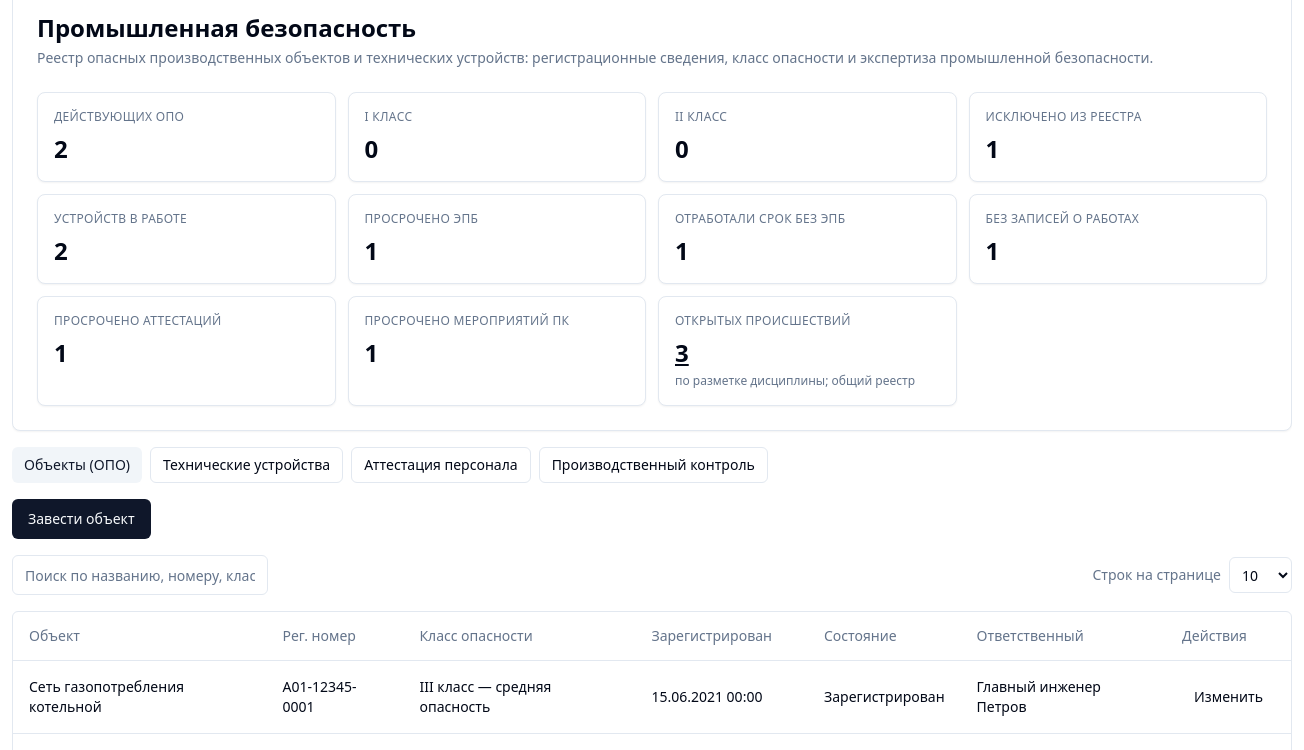
Test: IndustrialSafetyPage › производственный контроль открывается четвёртой секцией
The image size is (1304, 750).
Expected: the text "Сеть газопотребления котельной" is shown, top-left (13, 660), bottom-right (266, 733)
Click the button "Производственный контроль" at (653, 465), box top-left (539, 447), bottom-right (768, 483)
(page scrolled)
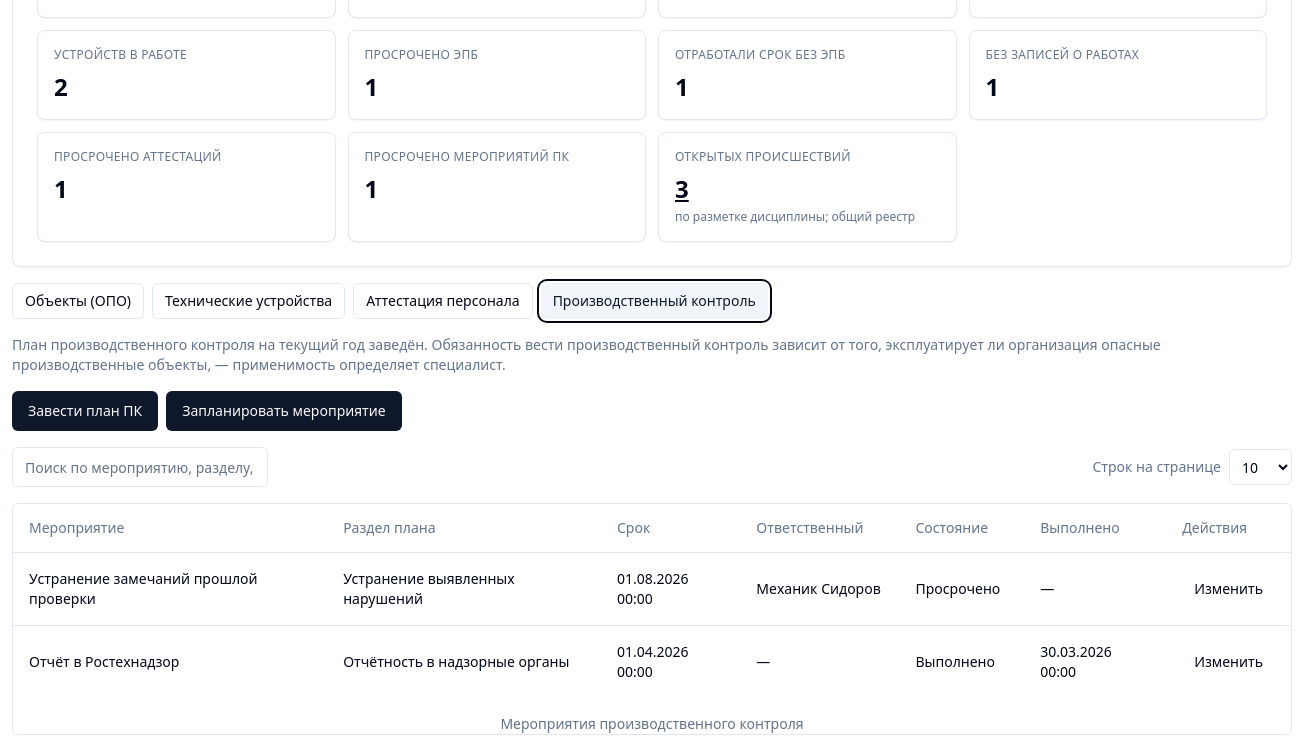
Now the text "Устранение замечаний прошлой проверки" is shown, box top-left (13, 552), bottom-right (327, 625)
Now the text "Устранение выявленных нарушений" is shown, box top-left (327, 552), bottom-right (601, 625)
Now the text "Просрочено" is shown, box top-left (900, 552), bottom-right (1024, 625)
